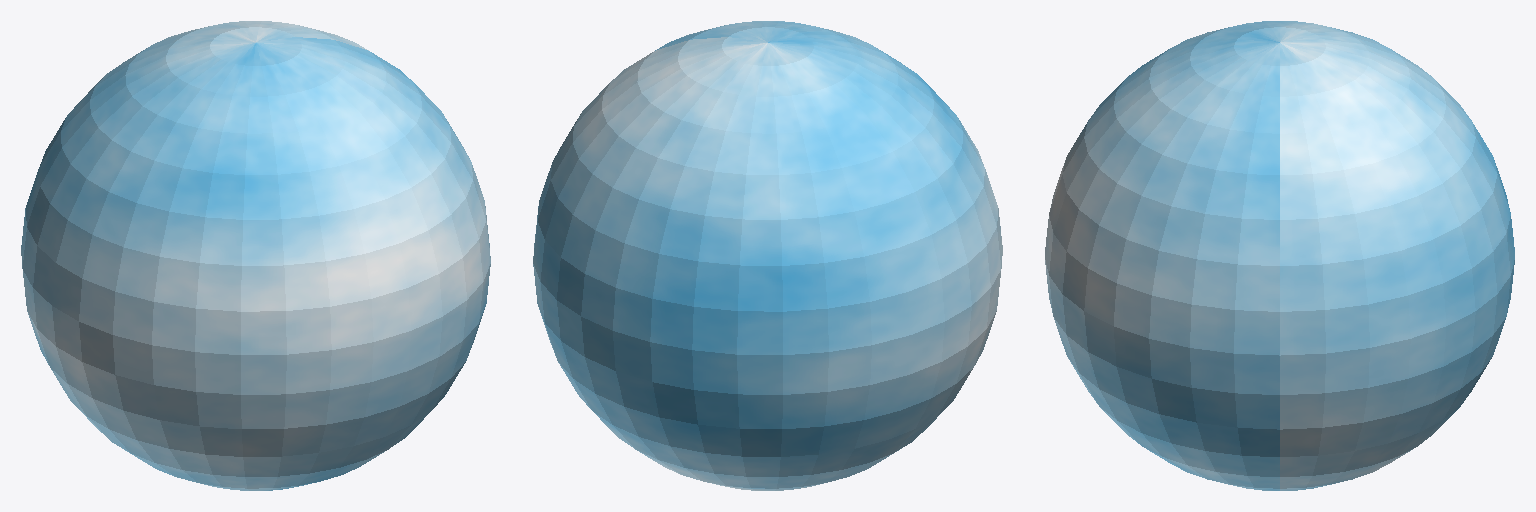
3 views of the same model, side by side, from view 1: azimuth 30°, elevation 25°; view 2: azimuth 150°, elevation 25°; view 3: azimuth 270°, elevation 25° (orthographic).
Parts seen in each view (by area): view 1: 球.001; view 2: 球.001; view 3: 球.001.
Boxes of the visible parts, box(x1,y1,x2,y2) form: 球.001: box(21, 21, 490, 490); 球.001: box(533, 21, 1002, 490); 球.001: box(1045, 21, 1514, 490).
Size of the model in its own units: 700 by 700 by 700.
Materials: 1 (1 with a texture image).